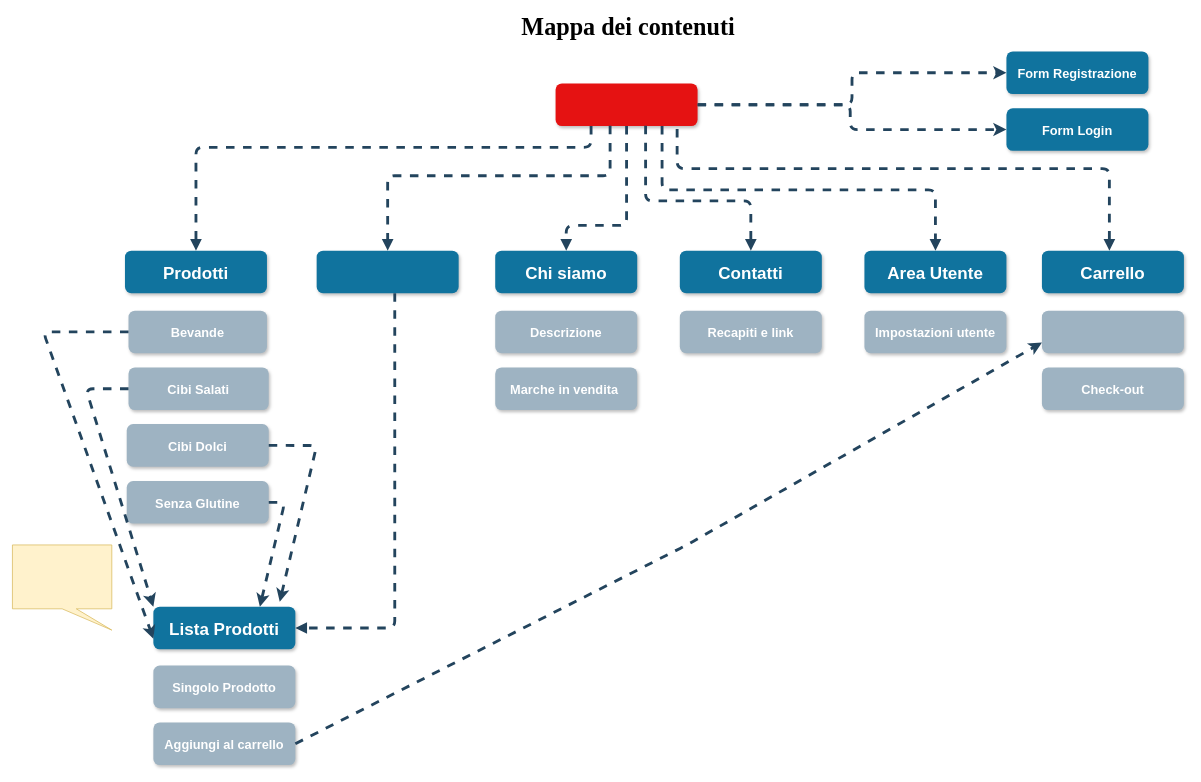
The diagram is 1201 pixels wide and 782 high, and some of its shapes have lost their labels. Here are the shapes that lost their labels. From the top down, the centre of each, then its label:
the point at 626,105: Home
the point at 388,272: Offerte
the point at 1113,332: Prodotti selezionati
the point at 62,587: Questa sezione riporta alla lista di prodotti di un determinato filtro.
